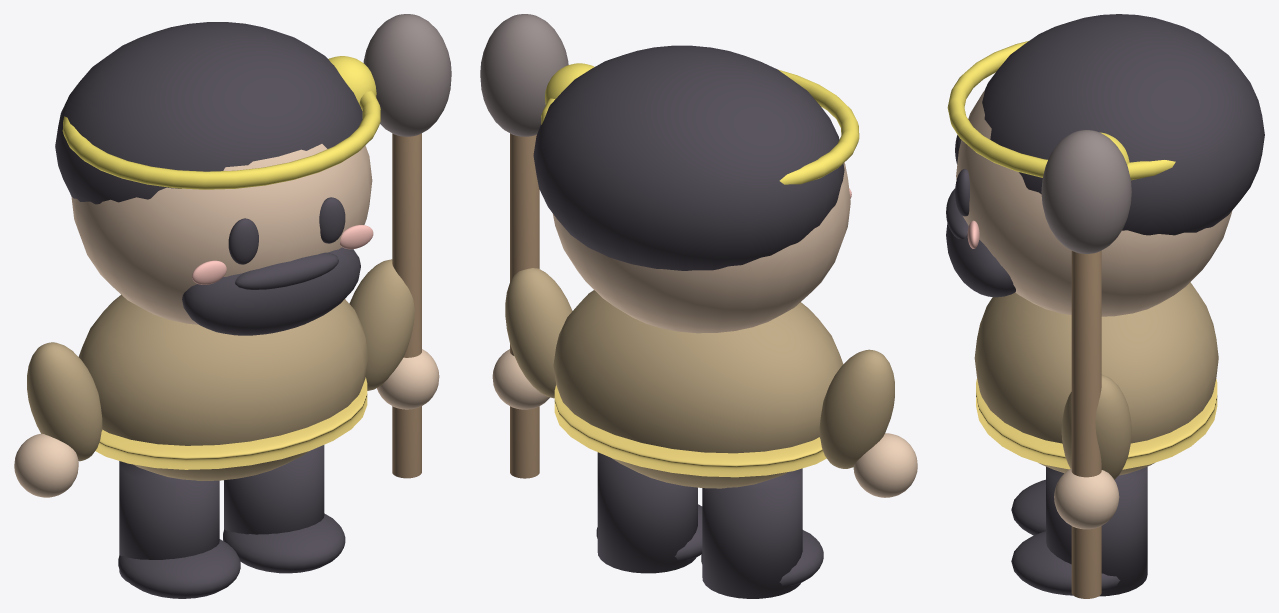
The model's file is yt_brute.fbx.
3 renders of one model, left to right at view 1: azimuth 30°, elevation 25°; view 2: azimuth 150°, elevation 25°; view 3: azimuth 270°, elevation 25°, orthographic.
Parts seen in each view (by area): view 1: hair, body, head_mesh, leg, wp_head, beard, wp_shaft, band, belt, leg.001, arm_mesh.001, arm_mesh (+10 smaller); view 2: hair, body, head_mesh, leg, leg.001, wp_head, belt, arm_mesh.001, wp_shaft, arm_mesh, hand_mesh.001, band (+4 smaller); view 3: hair, body, head_mesh, wp_head, wp_shaft, leg.001, belt, band, arm_mesh, hand_mesh, shoe.001, beard (+3 smaller).
Boxes of the visible parts, x1,y1,x2,y2 form: hair: [55, 22, 362, 204]; body: [78, 294, 368, 480]; head_mesh: [71, 144, 372, 324]; leg: [119, 461, 219, 582]; wp_head: [363, 14, 451, 136]; beard: [182, 247, 360, 335]; wp_shaft: [392, 133, 421, 478]; band: [62, 91, 380, 189]; belt: [95, 377, 367, 469]; leg.001: [224, 445, 324, 534]; arm_mesh.001: [27, 342, 102, 461]; arm_mesh: [349, 259, 414, 390]; hair: [533, 45, 844, 270]; body: [553, 290, 843, 488]; head_mesh: [552, 162, 850, 333]; leg: [702, 468, 802, 598]; leg.001: [597, 452, 697, 573]; wp_head: [480, 14, 568, 136]; belt: [554, 385, 826, 477]; arm_mesh.001: [819, 349, 894, 468]; wp_shaft: [510, 133, 539, 478]; arm_mesh: [505, 268, 572, 398]; hand_mesh.001: [853, 433, 917, 497]; band: [541, 69, 859, 184]; hair: [982, 14, 1264, 235]; body: [974, 282, 1218, 475]; head_mesh: [956, 90, 1231, 316]; wp_head: [1041, 130, 1131, 253]; wp_shaft: [1071, 250, 1101, 598]; leg.001: [1046, 466, 1147, 596]; belt: [976, 378, 1217, 469]; band: [947, 41, 1175, 180]; arm_mesh: [1061, 374, 1131, 479]; hand_mesh: [1054, 468, 1119, 529]; shoe.001: [1011, 531, 1120, 595]; beard: [946, 223, 1015, 297].
Size of the model in its own units: 0.992 by 1.15 by 0.635.
